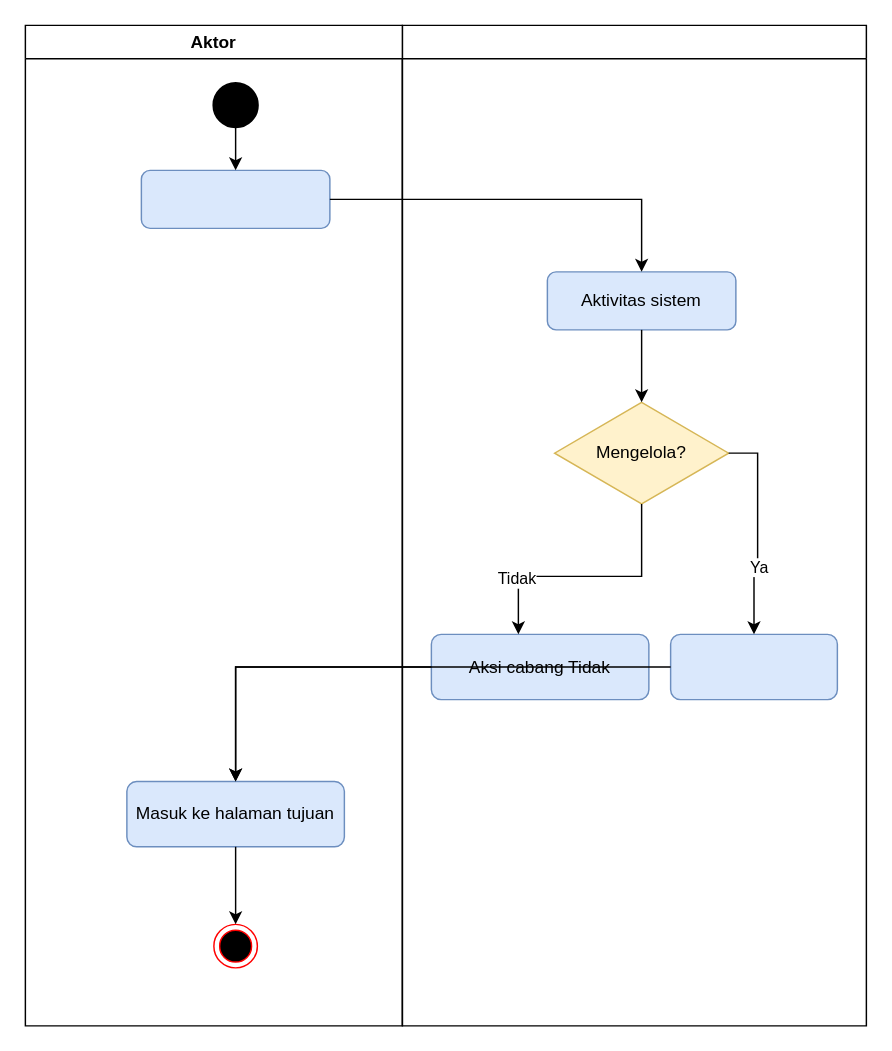
This 892x1051 diagram has some shape labels left out. Each missing label, with the box of its shape:
Aksi cabang Ya: (669, 633, 837, 700)
Aktivitas aktor: (140, 169, 330, 228)
System: (401, 24, 866, 1026)
